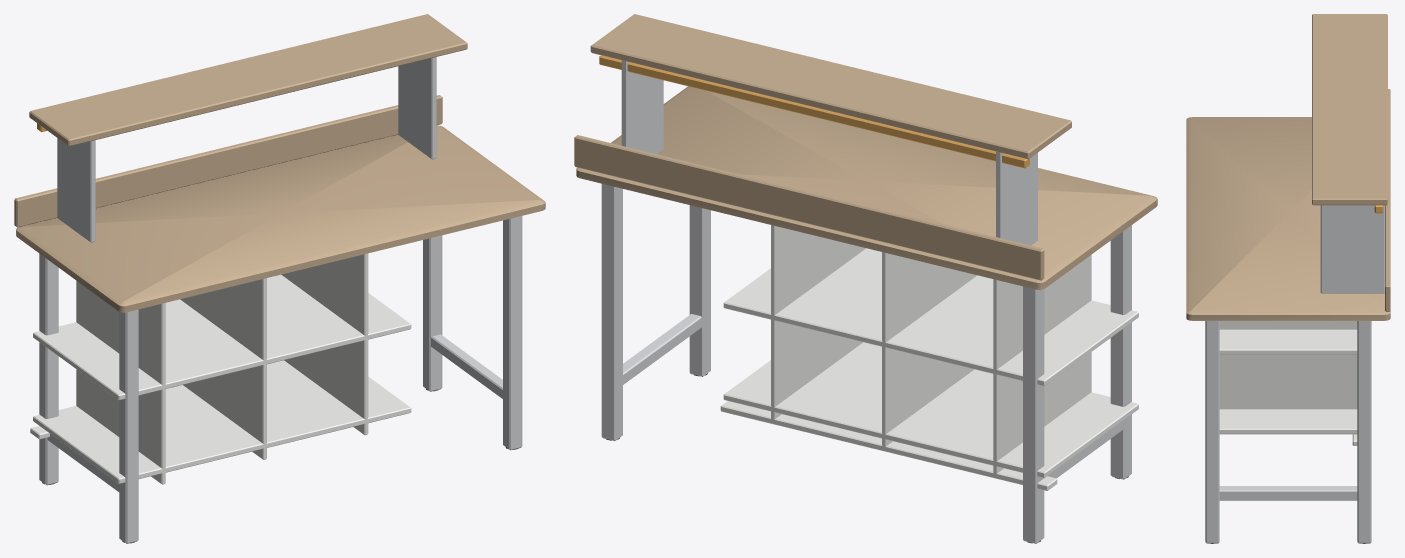
The model's file is office-lobby-and-facilities-print-room-bench-bf32bf00__26280.glb.
3 renders of one model, left to right at view 1: azimuth 30°, elevation 25°; view 2: azimuth 150°, elevation 25°; view 3: azimuth 270°, elevation 25°, orthographic. The views are drawn at different scales.
Visible parts, largest first — view 1: print-room-bench; view 2: print-room-bench; view 3: print-room-bench.
Boxes of the visible parts, box(x1,y1,x2,y2) form: print-room-bench: box(14, 14, 545, 543); print-room-bench: box(574, 14, 1157, 543); print-room-bench: box(1186, 14, 1390, 543).
Bounding box in the file's own units: 1.6 × 1.31 × 0.7001.
